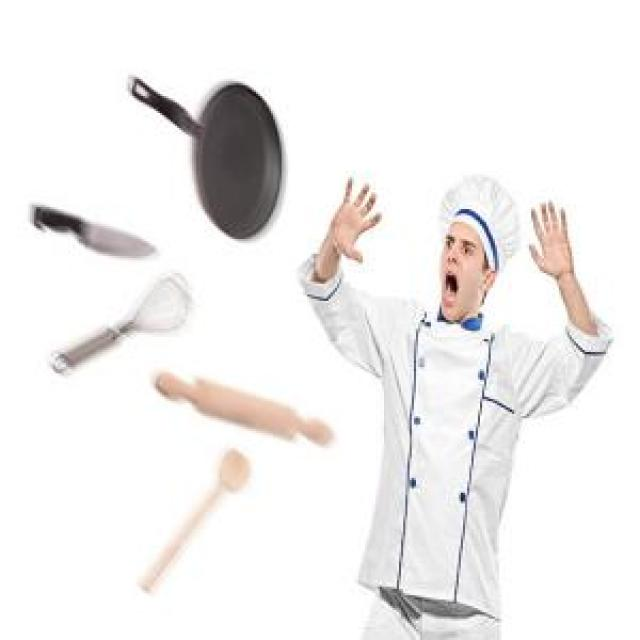knife: (30, 200, 161, 269)
